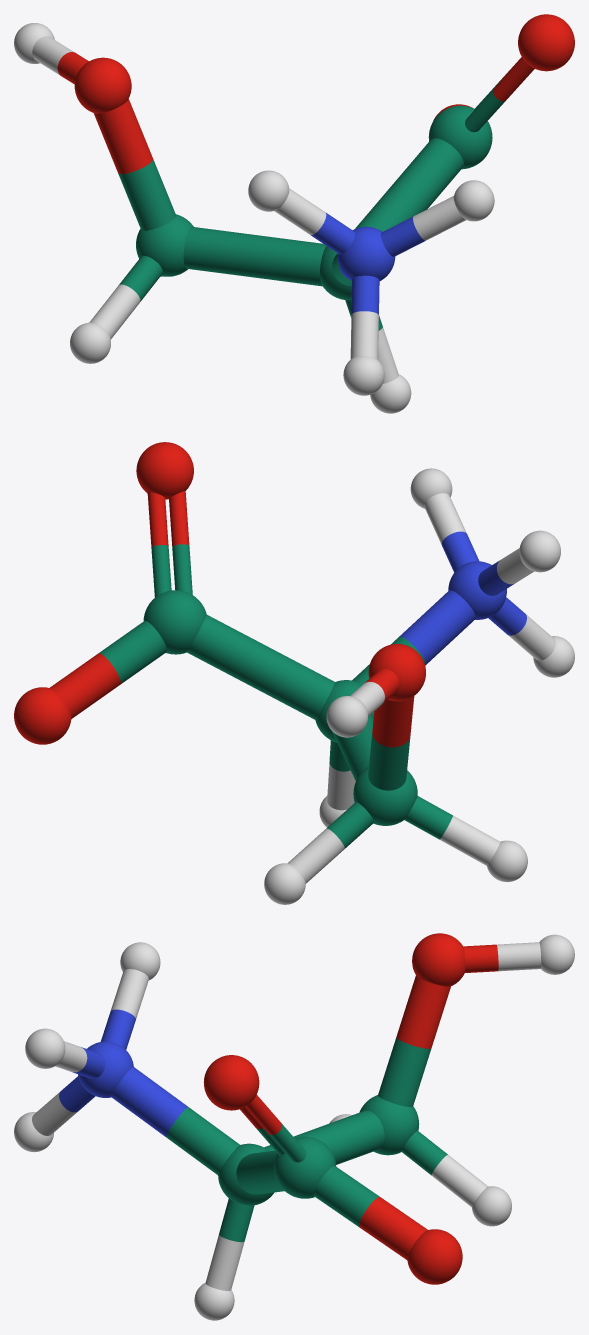
Rendered from SER.PDB.glb.
3 renders of one model, top to bottom at view 1: azimuth 30°, elevation 25°; view 2: azimuth 150°, elevation 25°; view 3: azimuth 270°, elevation 25°, orthographic. The views are drawn at different scales.
Bounding box in the file's own units: 4.22 × 3.07 × 4.6.
